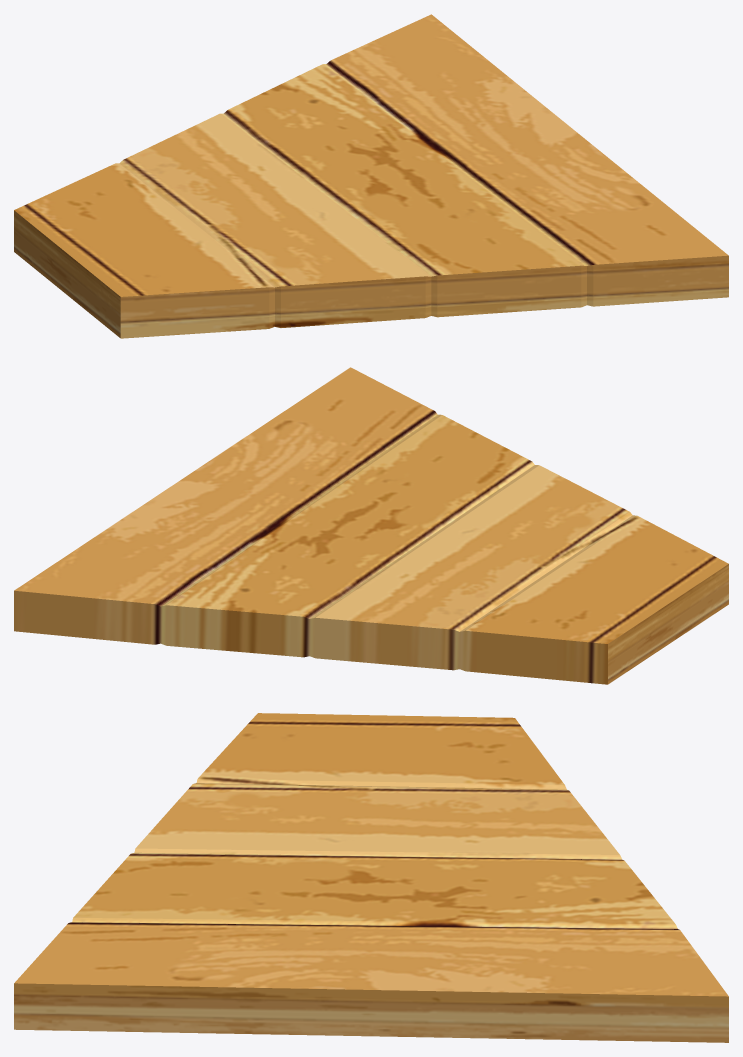
Rendered from SM_TreePlatforms_Box007.FBX.
3 views of the same model, one above another, from view 1: azimuth 30°, elevation 25°; view 2: azimuth 150°, elevation 25°; view 3: azimuth 270°, elevation 25° (orthographic). The views are drawn at different scales.
Parts seen in each view (by area): view 1: Box007_SingleStraight; view 2: Box007_SingleStraight; view 3: Box007_SingleStraight.
Part boxes in pixels (x1,y1,x2,y2): Box007_SingleStraight: (14, 14, 728, 338); Box007_SingleStraight: (14, 367, 728, 684); Box007_SingleStraight: (14, 713, 728, 1042).
Size of the model in its own units: 7.99 by 0.6096 by 8.52.
